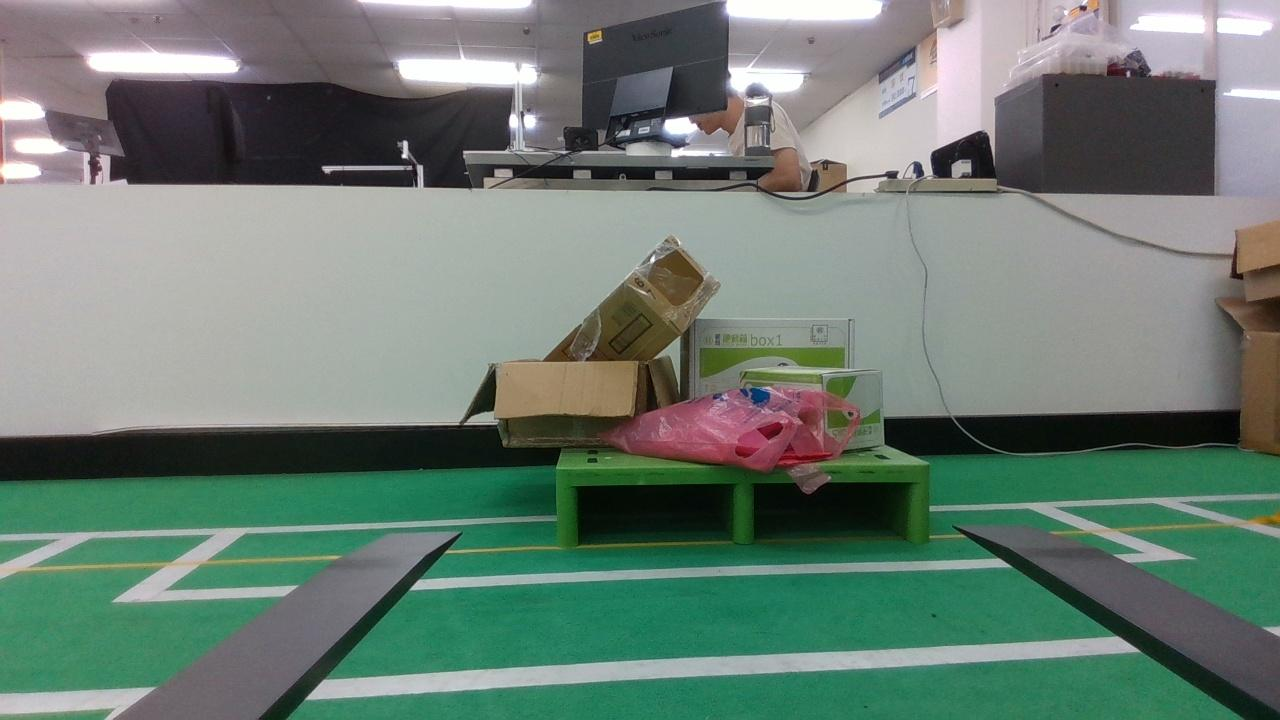Pallet: (557, 465, 931, 545)
